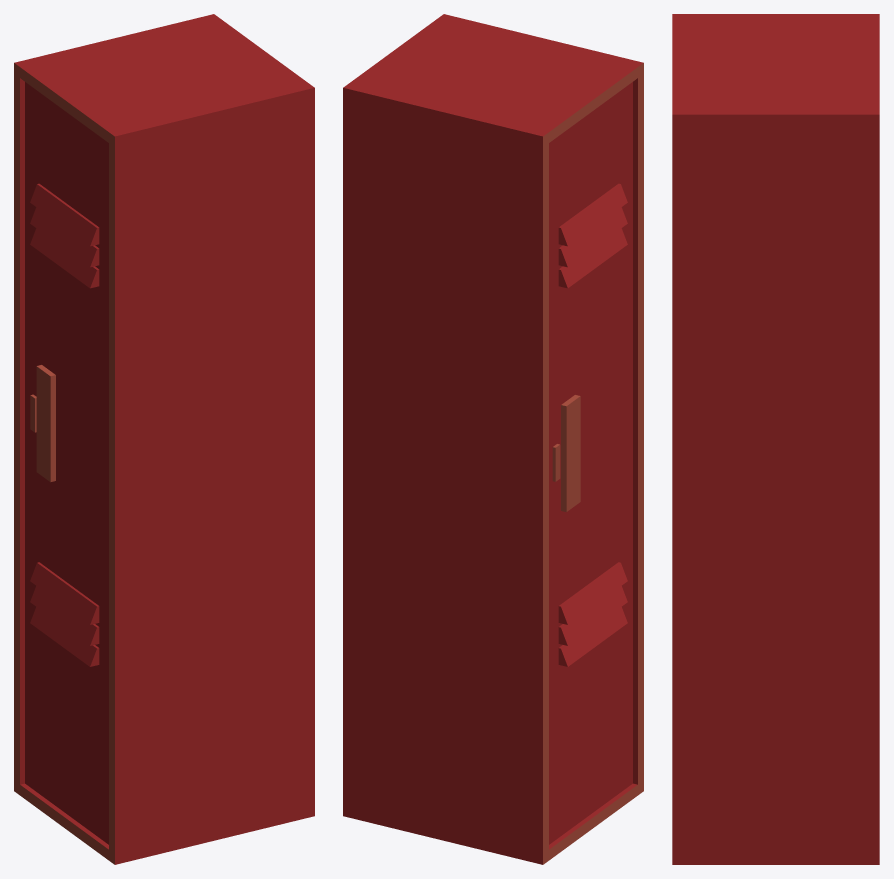
File: Locker.fbx
3 renders of one model, left to right at view 1: azimuth 30°, elevation 25°; view 2: azimuth 150°, elevation 25°; view 3: azimuth 270°, elevation 25°, orthographic. The views are drawn at different scales.
Visible parts, largest first — view 1: Locker; view 2: Locker; view 3: Locker.
Part boxes in pixels (x1,y1,x2,y2): Locker: (14,14,314,864); Locker: (343,14,643,864); Locker: (672,14,879,864).
Size of the model in its own units: 55.16 by 188 by 47.1.
